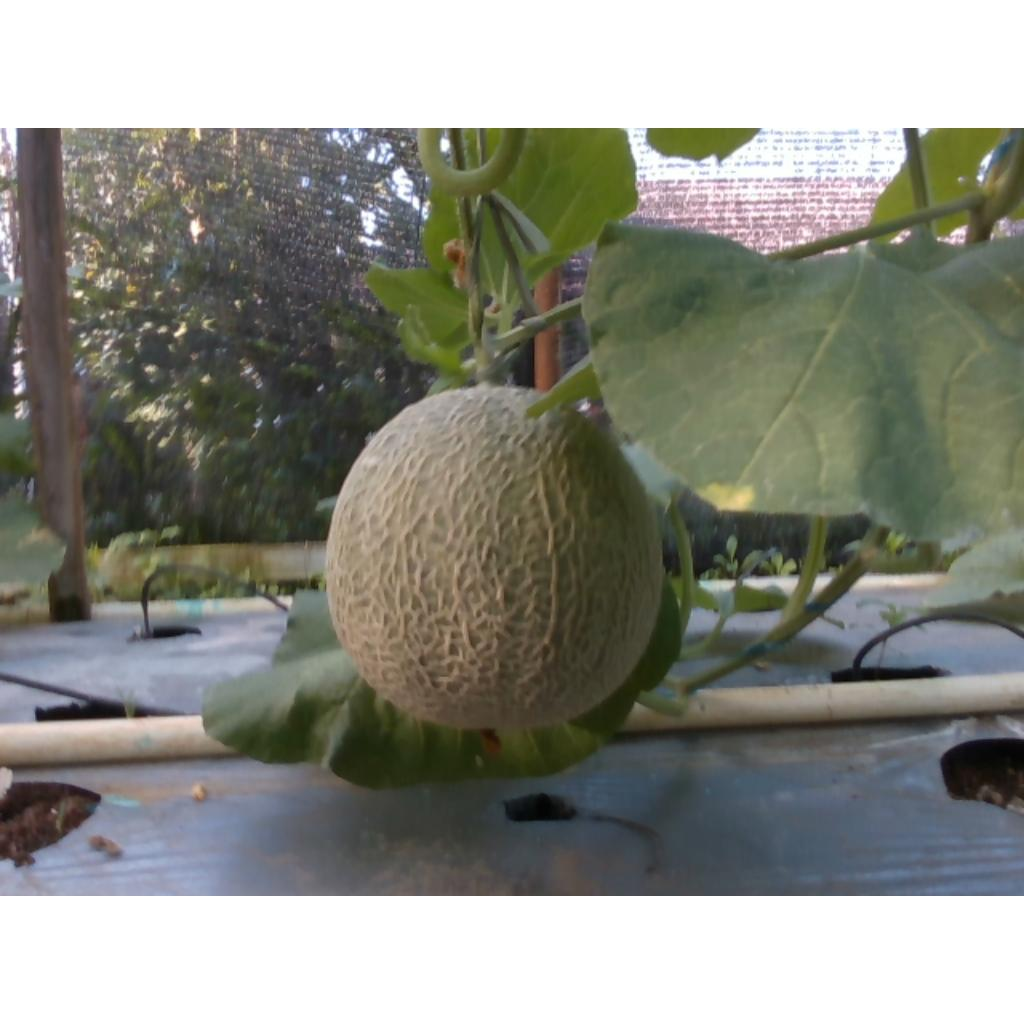melon: (328, 386, 664, 730)
